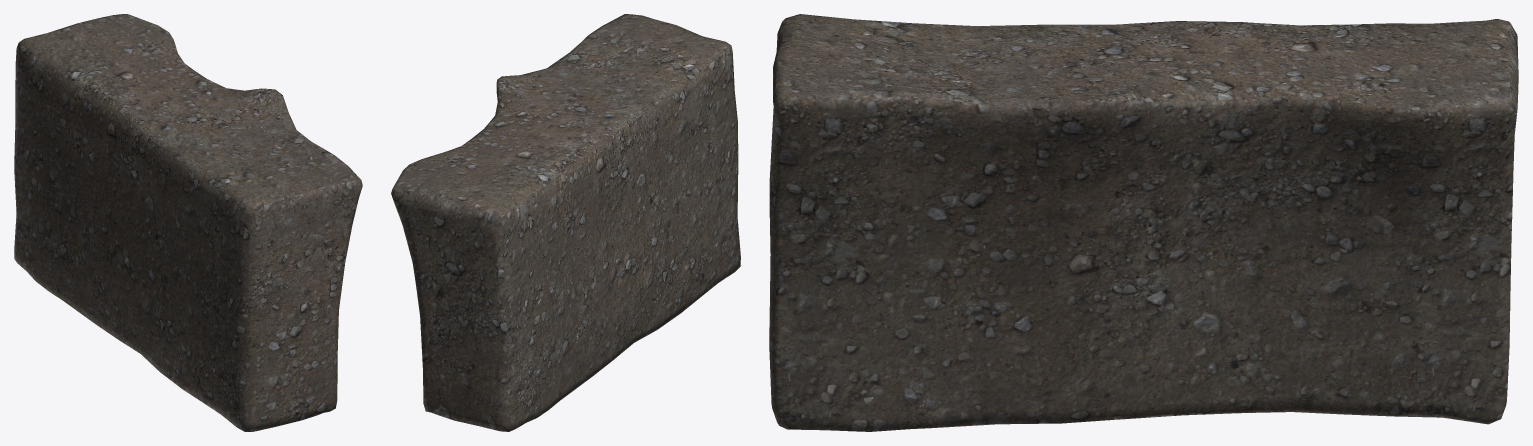
File: cave_modules_cliff_1.dae
3 views of the same model, side by side, from view 1: azimuth 30°, elevation 25°; view 2: azimuth 150°, elevation 25°; view 3: azimuth 270°, elevation 25° (orthographic). The views are drawn at different scales.
Visible parts, largest first — view 1: cliff_1; view 2: cliff_1; view 3: cliff_1.
Part boxes in pixels (bbox=[...]): cliff_1: bbox=[14, 14, 362, 431]; cliff_1: bbox=[391, 14, 740, 431]; cliff_1: bbox=[769, 14, 1518, 431].
Size of what is drawn, in the model's own units: 2.52 by 3.96 by 7.26.
